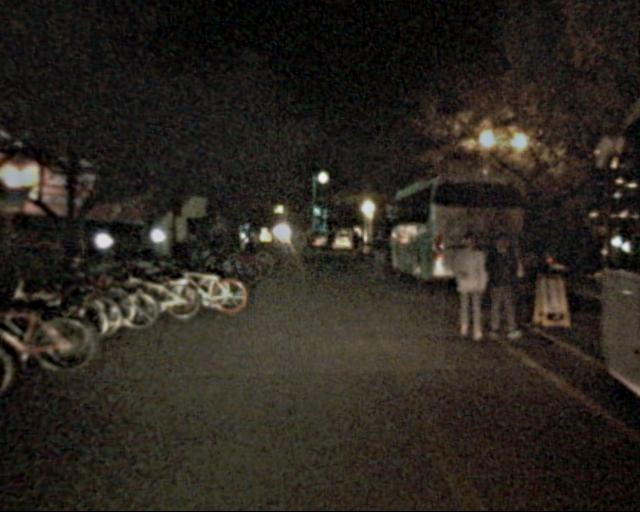person: (478, 230, 524, 343), (447, 232, 490, 338), (366, 230, 389, 287), (248, 231, 262, 265)
